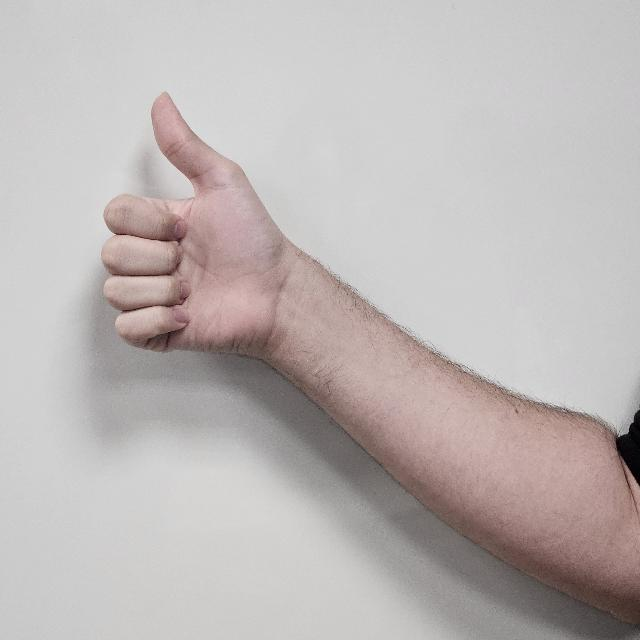Start: (100, 90, 288, 378)
